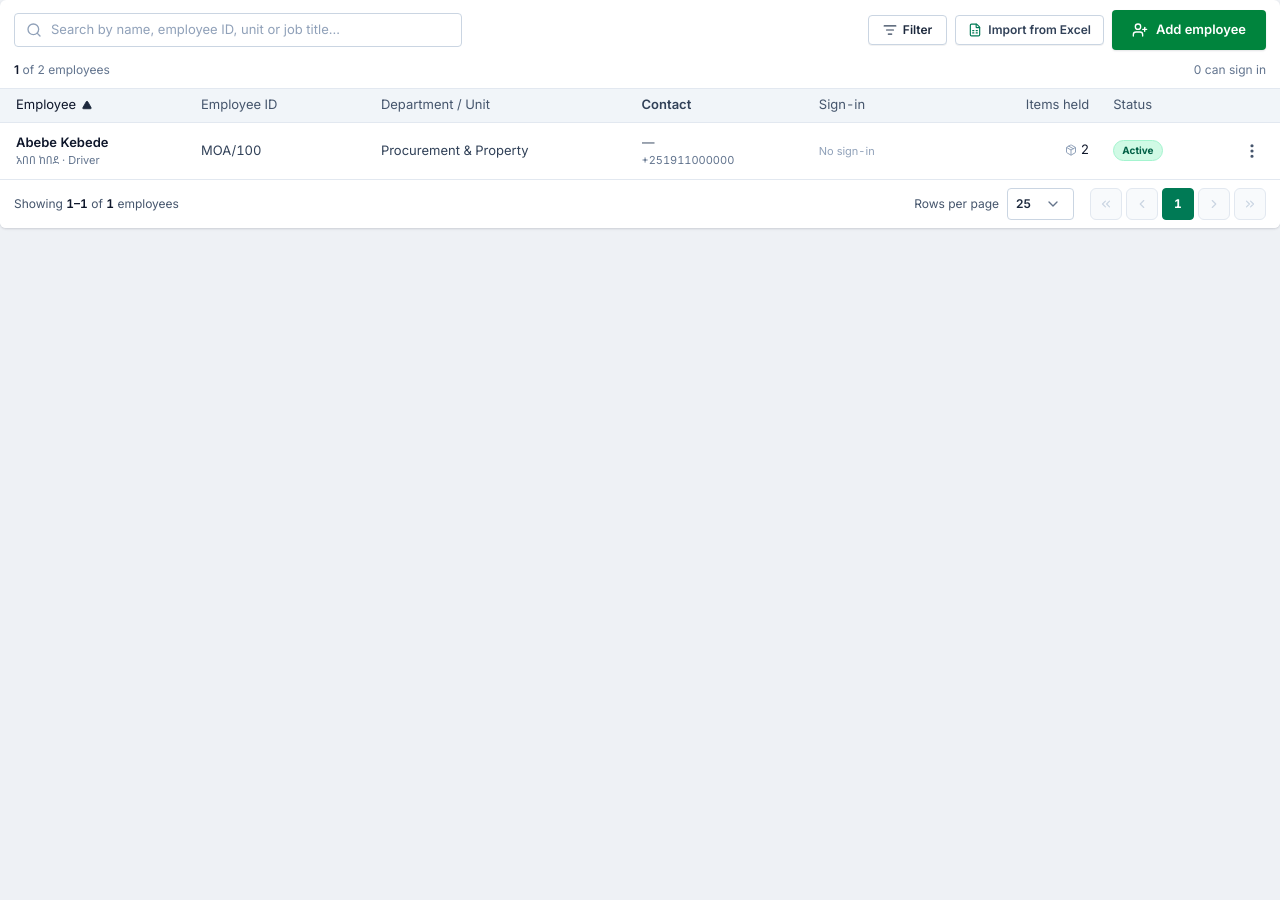
Test: Employees page › shows active staff by default, with deactivated staff one click away
This screenshot has width=1280, height=900.
Expected: the text "Abebe Kebede" is shown, [16,134,108,150]
Expected: the text "No sign-in" is shown, [819,144,875,158]
Click the button with aria-label "Filter employees" at (908, 30), box [868,15,947,45]
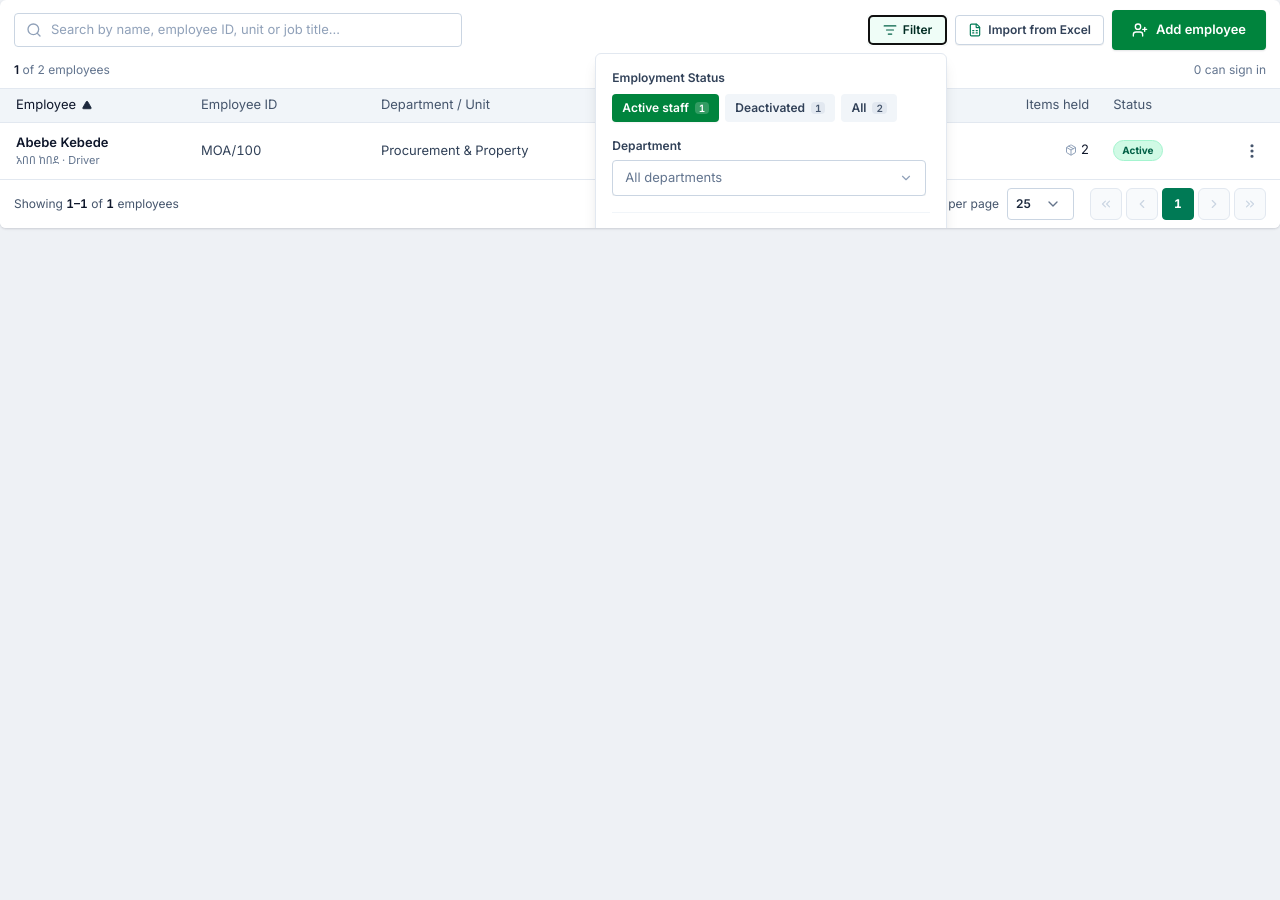
Click the button "Deactivated 1" at (780, 108), box [725,94,836,122]
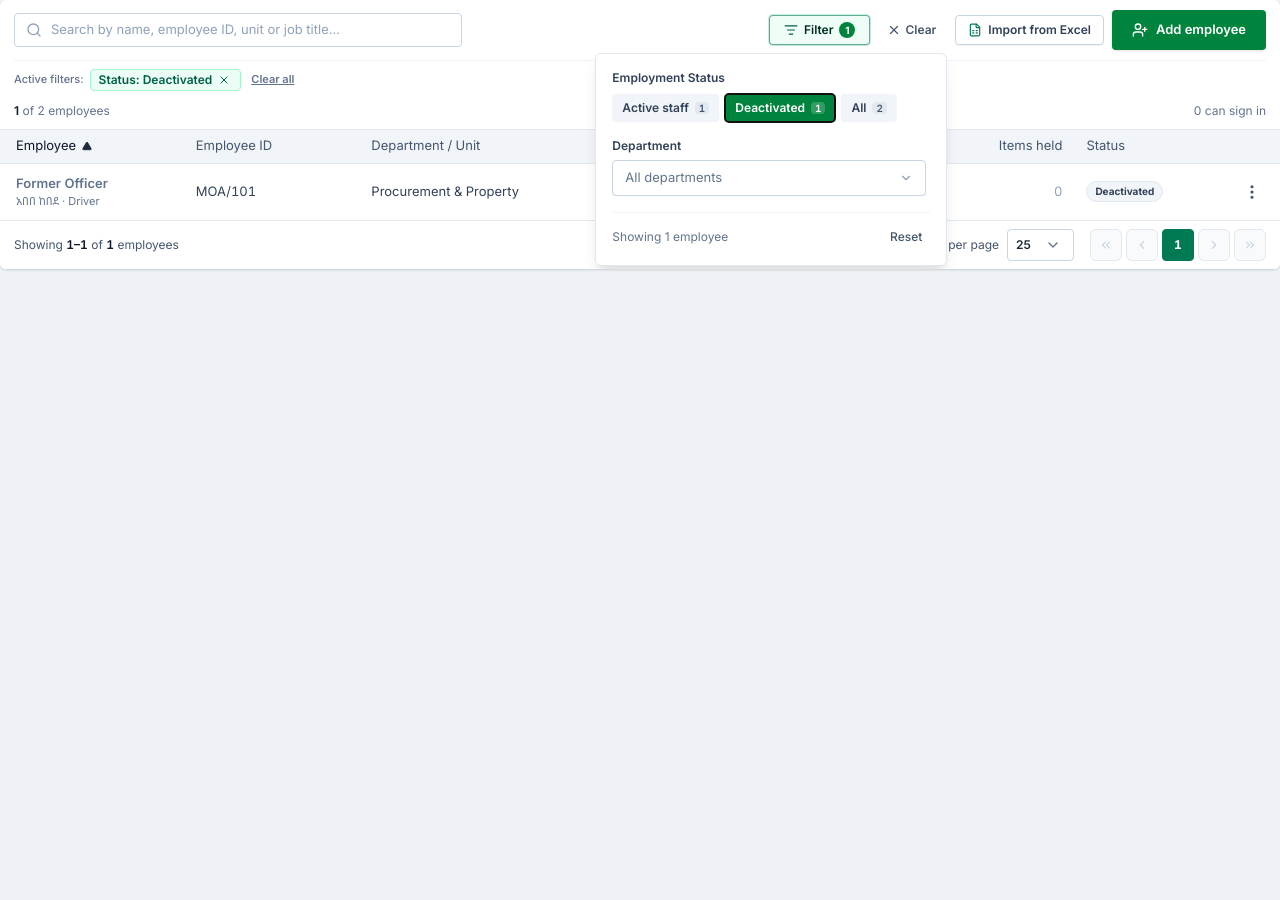
Now the text "Former Officer" is shown, box [16,175,108,191]
